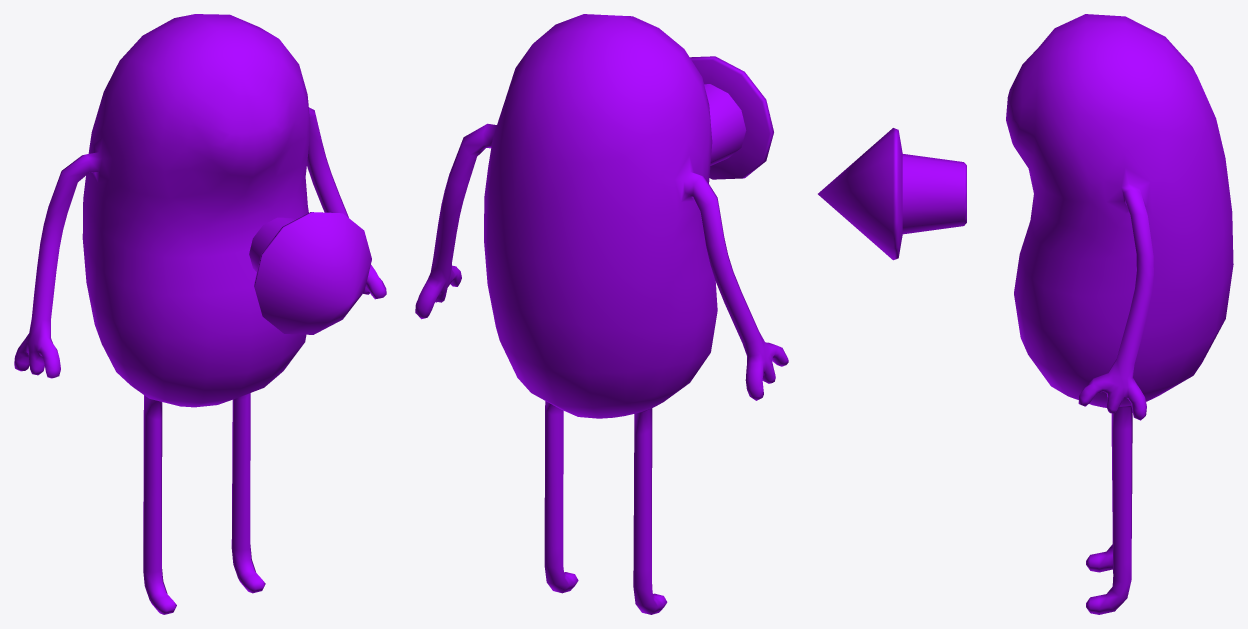
The model's file is Gizmo_TeleportOUT_Collider_None.glb.
The picture shows the model from 3 angles, left to right: view 1: azimuth 30°, elevation 25°; view 2: azimuth 150°, elevation 25°; view 3: azimuth 270°, elevation 25°; orthographic projection. The views are drawn at different scales.
Parts seen in each view (by area): view 1: Guizmo_Spawner_Collider_None; view 2: Guizmo_Spawner_Collider_None; view 3: Guizmo_Spawner_Collider_None.
Boxes of the visible parts, bbox=[...] form: Guizmo_Spawner_Collider_None: bbox=[14, 14, 386, 614]; Guizmo_Spawner_Collider_None: bbox=[415, 14, 788, 614]; Guizmo_Spawner_Collider_None: bbox=[818, 14, 1233, 614].
Size of the model in its own units: 1.09 by 1.73 by 1.15.
